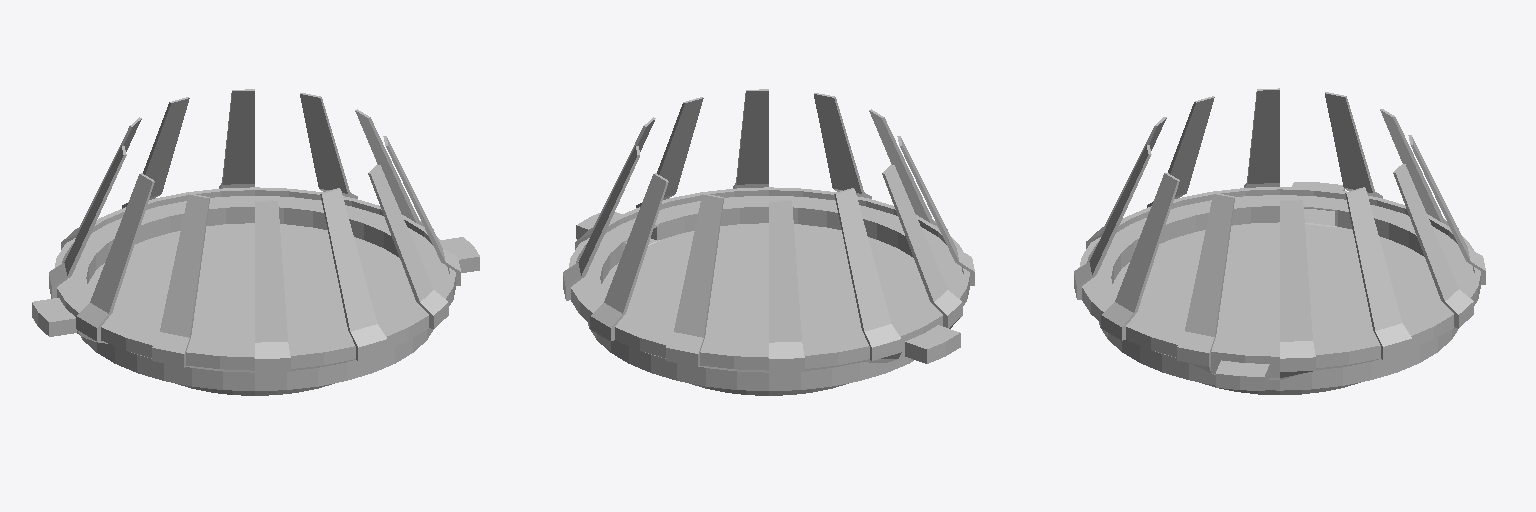
Rendered from Arena.obj.
The picture shows the model from 3 angles: view 1: azimuth 30°, elevation 25°; view 2: azimuth 150°, elevation 25°; view 3: azimuth 270°, elevation 25°; orthographic projection.
Visible parts, largest first — view 1: Cylinder; view 2: Cylinder; view 3: Cylinder.
Boxes of the visible parts, box(x1,y1,x2,y2) form: Cylinder: box(32, 89, 479, 395); Cylinder: box(563, 89, 974, 395); Cylinder: box(1074, 88, 1485, 394).
Bounding box in the file's own units: 13.73 × 7.28 × 12.29.